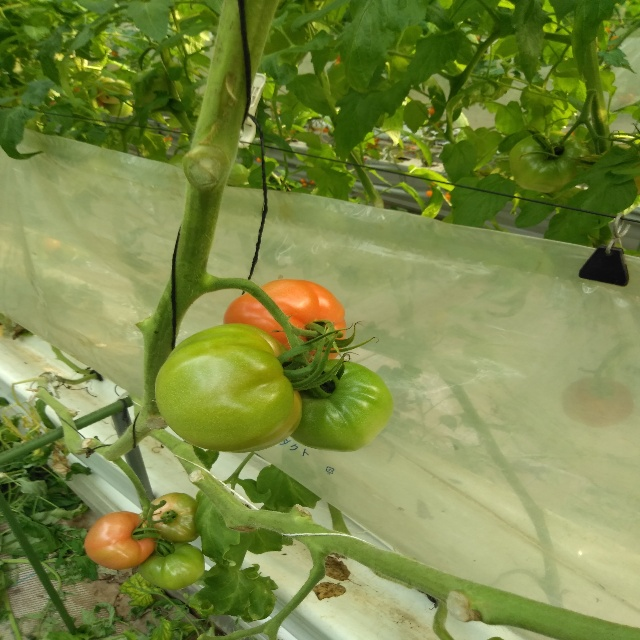b_green: (155, 322, 302, 453), (290, 359, 393, 452), (509, 131, 593, 193), (139, 540, 205, 590)
b_half_ripened: (223, 279, 346, 361), (85, 511, 159, 570), (145, 492, 202, 543)
